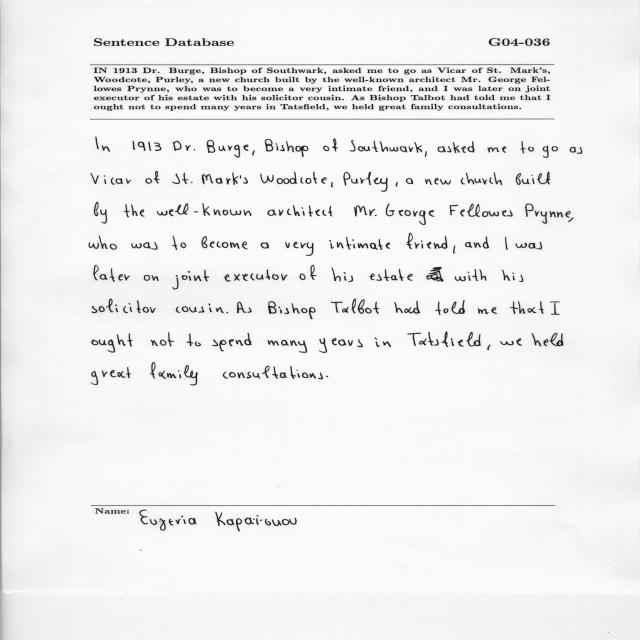word: (223, 366, 323, 379), (157, 203, 251, 216), (407, 332, 481, 347), (150, 363, 198, 386), (350, 140, 422, 153), (343, 172, 388, 192), (525, 204, 570, 224), (427, 267, 487, 282), (92, 299, 156, 313), (268, 301, 316, 319), (450, 204, 513, 217), (329, 237, 390, 250), (268, 205, 333, 217), (92, 334, 133, 353), (265, 139, 308, 157), (224, 270, 288, 282), (212, 333, 252, 352), (207, 140, 248, 158), (331, 299, 379, 314), (173, 270, 210, 289), (92, 367, 131, 385), (319, 338, 363, 353), (407, 233, 448, 249), (93, 265, 130, 282), (201, 237, 248, 250), (277, 172, 327, 184), (202, 172, 248, 185), (398, 210, 434, 225), (461, 172, 502, 185), (354, 204, 395, 217), (369, 269, 413, 281), (267, 340, 307, 353), (91, 173, 131, 185), (516, 172, 551, 185), (435, 300, 465, 315), (510, 301, 544, 314), (176, 304, 224, 313), (89, 235, 117, 250), (286, 241, 314, 256), (532, 333, 564, 346), (438, 142, 475, 153), (395, 301, 421, 314), (151, 333, 174, 347), (332, 267, 353, 282), (465, 236, 489, 249), (133, 141, 162, 151), (502, 269, 523, 282), (299, 265, 317, 280), (95, 202, 107, 224), (124, 204, 144, 217), (172, 172, 193, 184), (173, 141, 195, 151), (131, 242, 158, 250), (96, 137, 110, 152), (516, 242, 542, 250), (173, 236, 187, 250), (323, 139, 338, 152), (543, 145, 558, 158), (520, 141, 534, 154), (146, 171, 160, 184), (425, 178, 451, 185), (187, 334, 201, 347), (500, 338, 522, 346), (374, 338, 391, 348), (237, 302, 252, 313), (550, 301, 560, 315), (488, 146, 507, 153), (478, 307, 497, 314), (260, 174, 274, 183), (144, 275, 159, 281), (570, 147, 582, 154), (261, 243, 269, 249), (406, 178, 413, 184), (505, 237, 508, 250), (568, 217, 574, 222), (252, 150, 255, 156), (453, 246, 455, 254), (487, 345, 490, 350), (425, 151, 427, 157), (331, 182, 333, 187), (396, 182, 398, 187), (226, 312, 228, 313), (326, 376, 328, 377)
